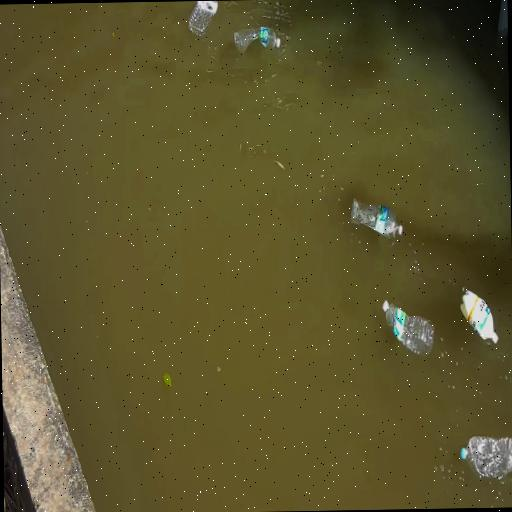plastic: (382, 301, 432, 354), (460, 436, 511, 480), (350, 199, 402, 238), (460, 290, 497, 343), (233, 27, 279, 52), (188, 1, 217, 36)
